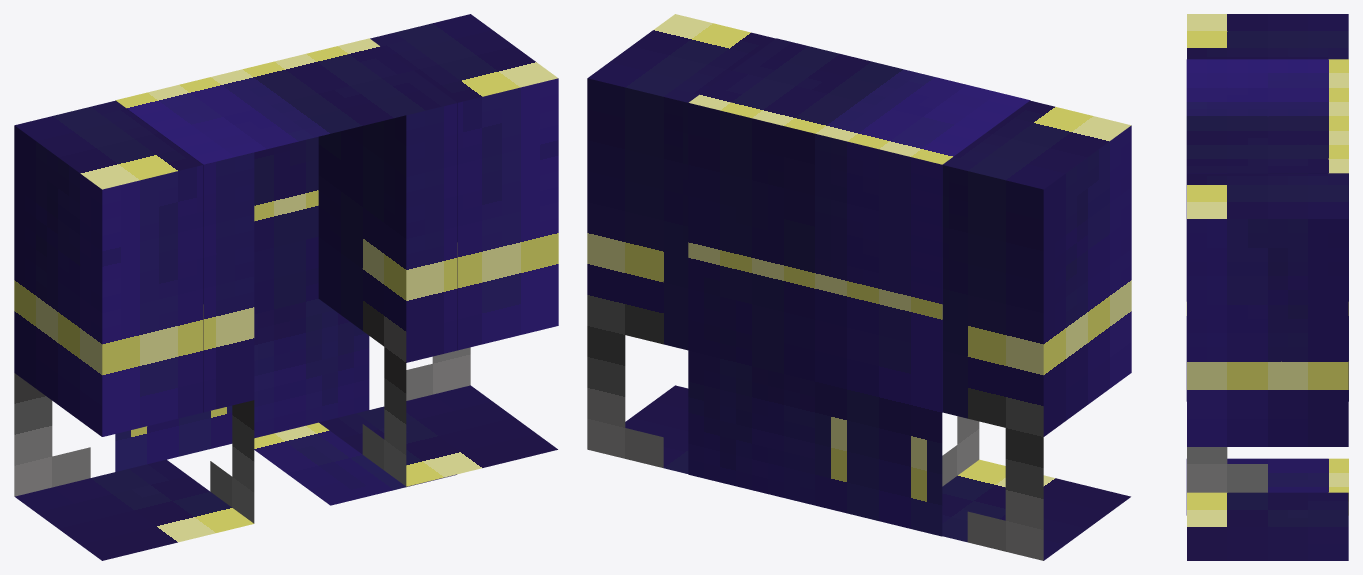
File: nomex_chest.obj
The picture shows the model from 3 angles, left to right: view 1: azimuth 30°, elevation 25°; view 2: azimuth 150°, elevation 25°; view 3: azimuth 270°, elevation 25°; orthographic projection. The views are drawn at different scales.
Parts seen in each view (by area): view 1: arm_plate_left, arm_plate_right, chestplate; view 2: chestplate, arm_plate_left, arm_plate_right; view 3: arm_plate_right, chestplate, arm_plate_left.
Boxes of the visible parts, x1,y1,x2,y2 form: arm_plate_left: (14, 100, 254, 560); arm_plate_right: (318, 14, 558, 486); chestplate: (115, 38, 457, 505); chestplate: (688, 38, 1030, 536); arm_plate_left: (942, 100, 1131, 560); arm_plate_right: (587, 14, 775, 473); arm_plate_right: (1187, 173, 1348, 560); chestplate: (1186, 59, 1348, 515); arm_plate_left: (1187, 14, 1348, 59).
Size of the model in its own units: 1.12 by 0.8763 by 0.4381.
